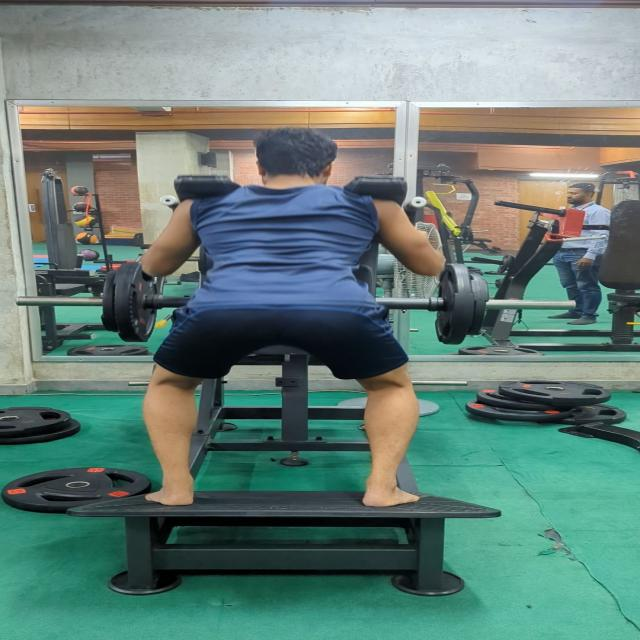Normal_SquatsWithBarbell: (102, 89, 508, 525)
